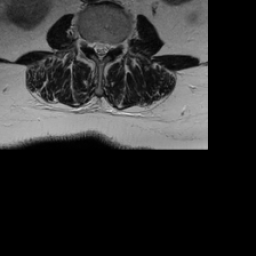CCS_normal: (97, 34, 104, 67)
LFS_normal: (110, 34, 118, 55)
LLS_normal: (104, 34, 110, 61)
RFS_stenosis: (84, 33, 90, 54)
RLS_normal: (90, 35, 97, 57)
